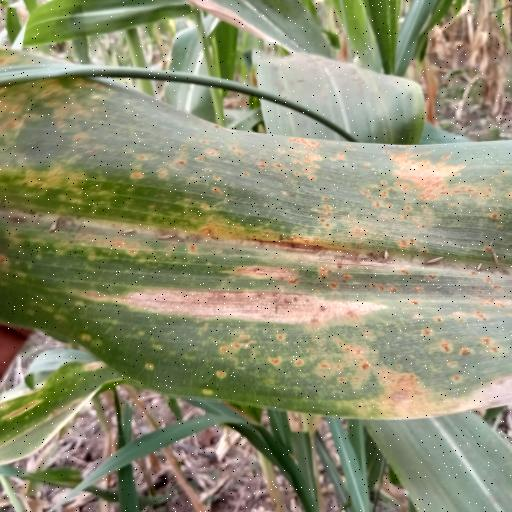Corn_Rust: (0, 33, 512, 431)
